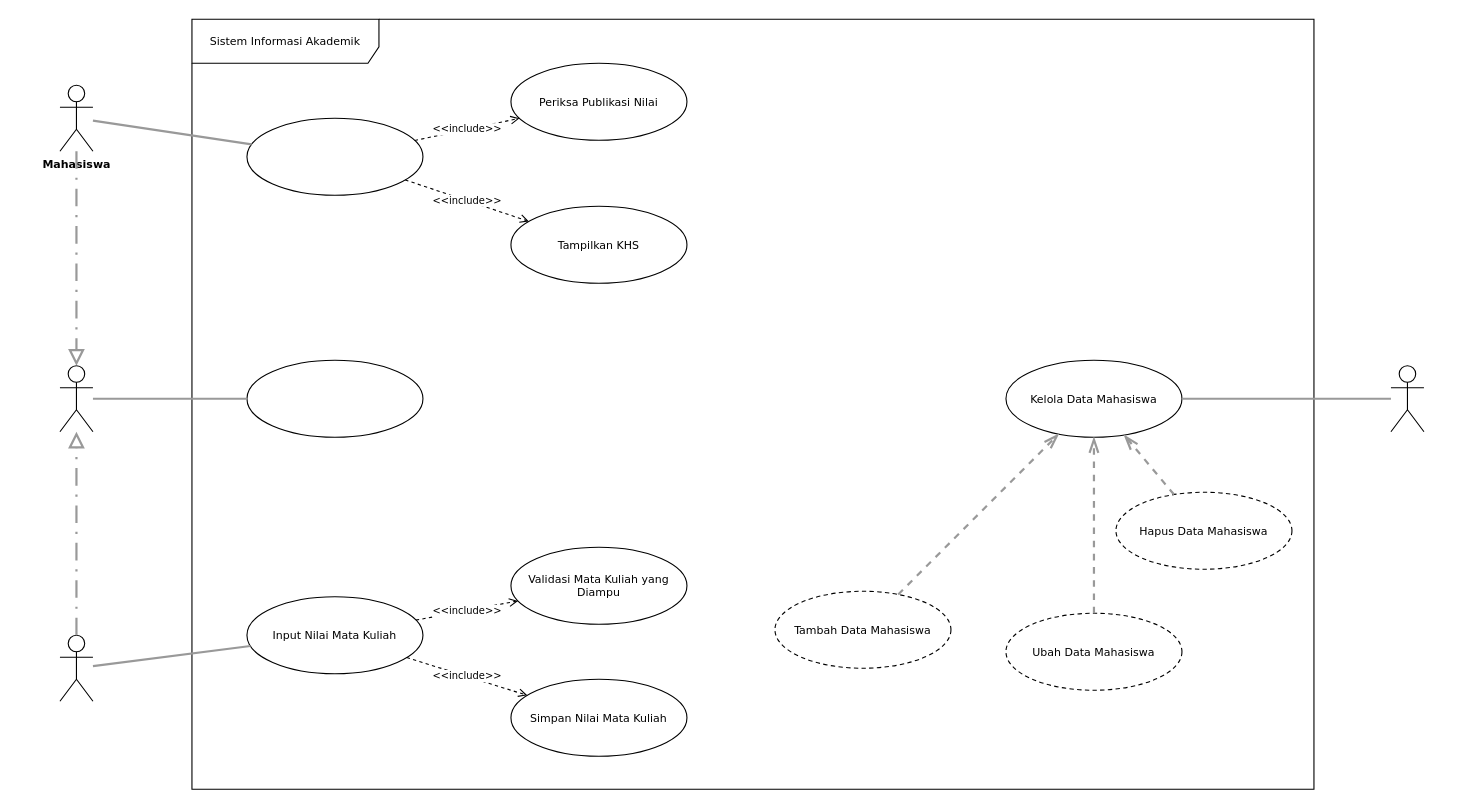
Some shapes in this 1478 by 809 pixel diagram are drawn without their labels. The centre of each missing label's shape, as x and y in pixels:
Admin Akademik: (1407,398)
Civitas Akademika: (76,398)
Dosen: (76,667)
Lihat Kalender Akademik: (334,398)
Lihat KHS: (334,156)
